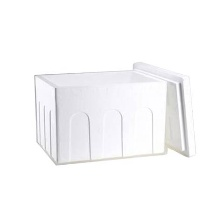foam_box: (27, 55, 202, 171)
